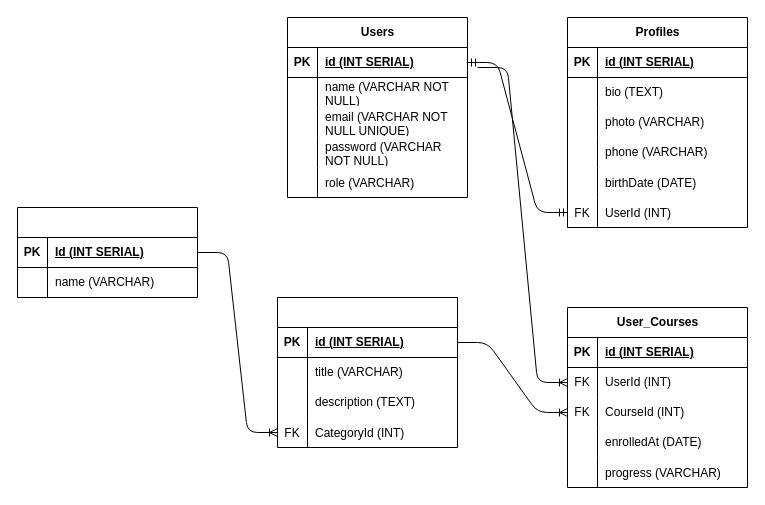
Some shapes in this 765 by 505 pixel diagram are drawn without their labels. The shapes that lost their labels are listed below. From the top down, each one's box as (x1, y1, x2, y2) in pixels, then its label:
(16, 206, 198, 298): Categories
(276, 296, 458, 448): Courses
